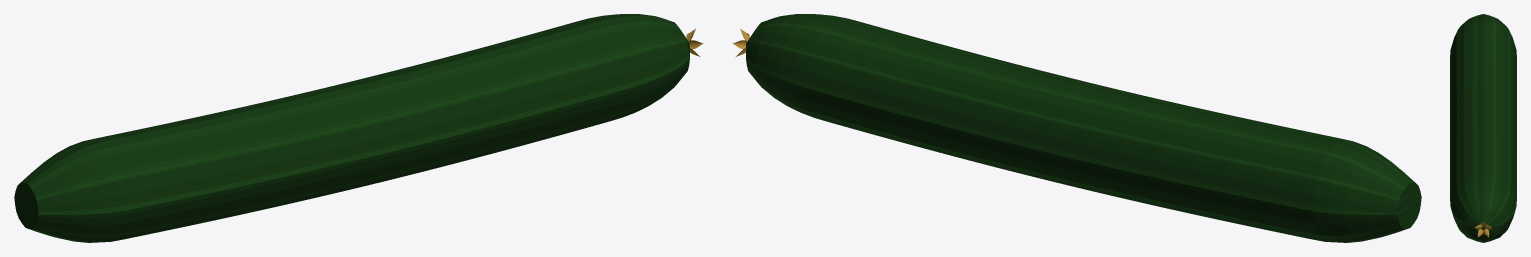
Rendered from fruit_03.obj.
3 renders of one model, left to right at view 1: azimuth 30°, elevation 25°; view 2: azimuth 150°, elevation 25°; view 3: azimuth 270°, elevation 25°, orthographic. The views are drawn at different scales.
Bounding box in the file's own units: 1.01 × 0.1482 × 0.1399.
1 material, 1 textured.
